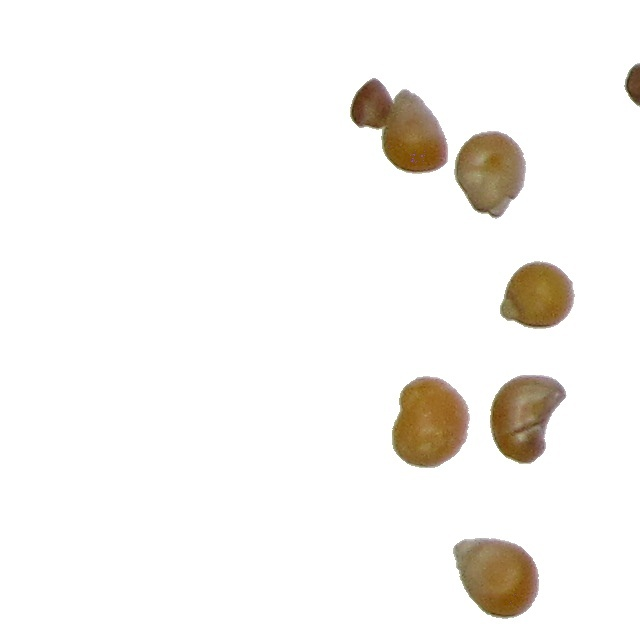buckwheat: (623, 62, 640, 108)
mais: (391, 375, 471, 469), (452, 537, 540, 620), (489, 374, 568, 465), (453, 130, 527, 220), (379, 85, 452, 169), (499, 260, 576, 330)
